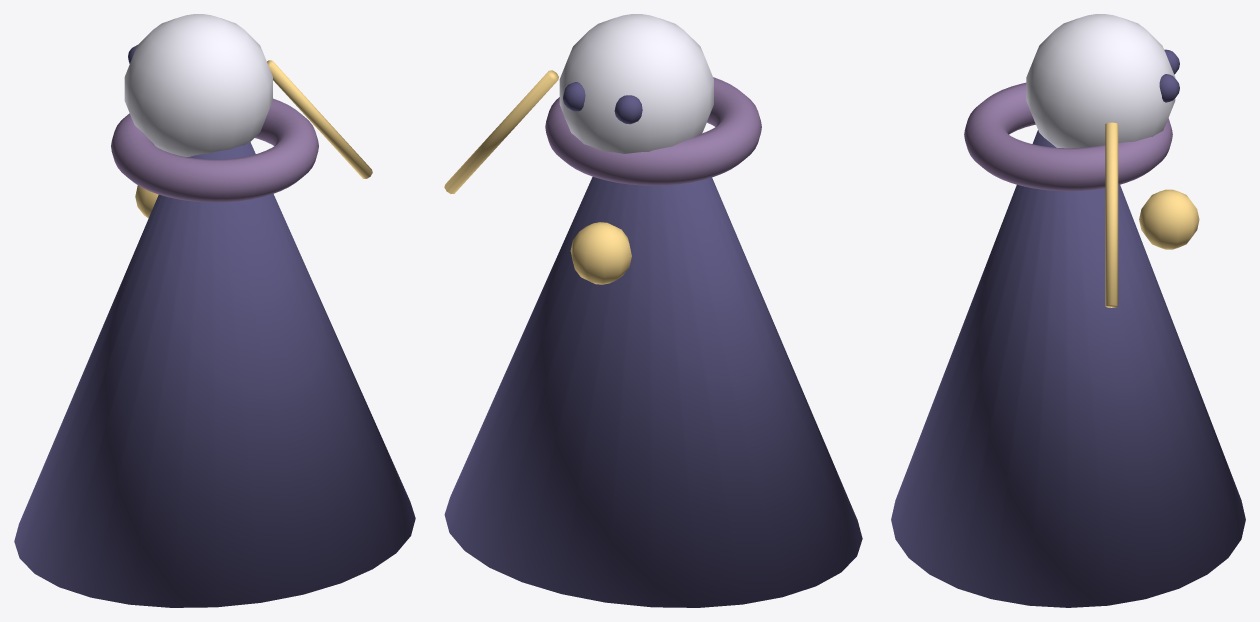
Rendered from opera_maestro.glb.
The picture shows the model from 3 angles, left to right: view 1: azimuth 30°, elevation 25°; view 2: azimuth 150°, elevation 25°; view 3: azimuth 270°, elevation 25°; orthographic projection. The views are drawn at different scales.
Parts seen in each view (by area): view 1: gown, head, collar, baton; view 2: gown, head, collar, brooch, baton, eye; view 3: gown, head, collar, brooch, baton.
Part boxes in pixels (box(x1,y1,x2,y2)): gown: box(14, 142, 415, 607); head: box(124, 14, 272, 156); collar: box(111, 98, 318, 202); baton: box(267, 60, 372, 178); gown: box(444, 177, 862, 607); head: box(559, 14, 713, 153); collar: box(545, 77, 761, 185); brooch: box(570, 222, 631, 284); baton: box(444, 70, 558, 193); eye: box(614, 95, 642, 124); gown: box(891, 130, 1245, 607); head: box(1026, 14, 1175, 148); collar: box(964, 82, 1172, 191); brooch: box(1139, 189, 1199, 249); baton: box(1105, 122, 1118, 307).
Size of the model in its own units: 5.8 by 7.65 by 4.93.
